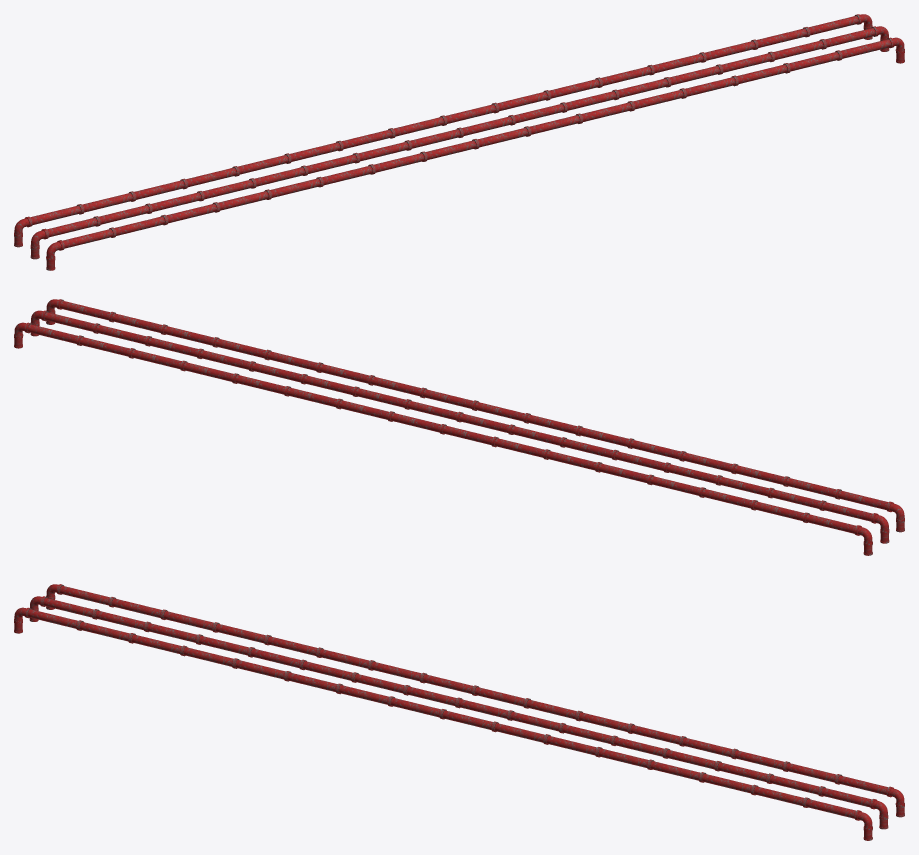
File: Pipe.fbx
3 views of the same model, one above another, from view 1: azimuth 30°, elevation 25°; view 2: azimuth 150°, elevation 25°; view 3: azimuth 330°, elevation 25° (orthographic).
Parts seen in each view (by area): view 1: Left pipe, Right pipe, Mid pipe damaged, Mid pipe Non damaged; view 2: Right pipe, Left pipe, Mid pipe Non damaged, Mid pipe damaged; view 3: Left pipe, Right pipe, Mid pipe damaged, Mid pipe Non damaged, Bolt.
Part boxes in pixels (x1,y1,x2,y2): Left pipe: (46,37,904,270); Right pipe: (14,14,872,247); Mid pipe damaged: (30,26,889,259); Mid pipe Non damaged: (30,26,888,257); Right pipe: (14,322,872,555); Left pipe: (46,299,904,532); Mid pipe Non damaged: (30,311,889,543); Mid pipe damaged: (31,310,889,542); Left pipe: (14,607,872,840); Right pipe: (46,584,904,817); Mid pipe damaged: (29,596,888,829); Mid pipe Non damaged: (30,596,888,827); Bolt: (27,585,870,807).
Size of the model in its own units: 3492 by 100 by 263.
Materials: 3 (3 with a texture image).
